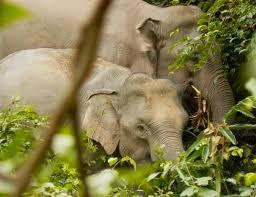elephant: (78, 0, 232, 160), (0, 0, 91, 112)
